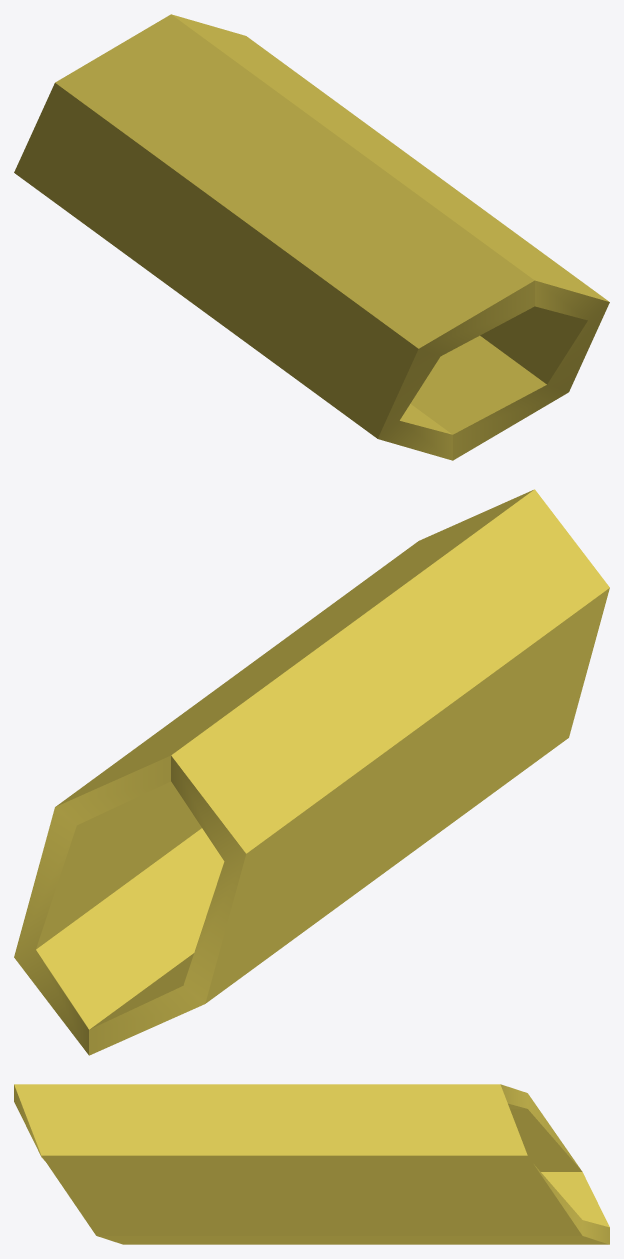
Rendered from Penne Ammo 1.fbx.
3 views of the same model, one above another, from view 1: azimuth 30°, elevation 25°; view 2: azimuth 150°, elevation 25°; view 3: azimuth 270°, elevation 25° (orthographic). The views are drawn at different scales.
Visible parts, largest first — view 1: pCylinder22; view 2: pCylinder22; view 3: pCylinder22.
Boxes of the visible parts, x1,y1,x2,y2 form: pCylinder22: (14, 14, 609, 460); pCylinder22: (14, 489, 609, 1055); pCylinder22: (14, 1084, 609, 1244).
Size of the model in its own units: 33.49 by 40.19 by 135.
1 material, 1 textured.
